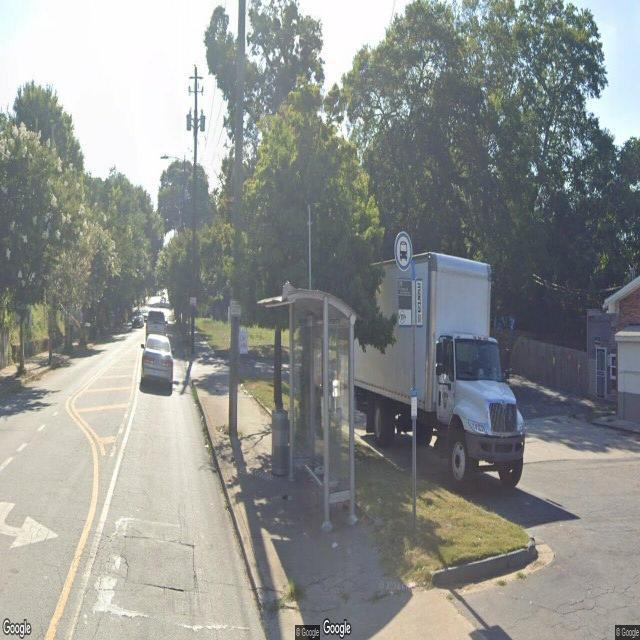seating: (304, 460, 338, 510)
shelter: (255, 290, 358, 531)
trash_can: (272, 409, 288, 476)
